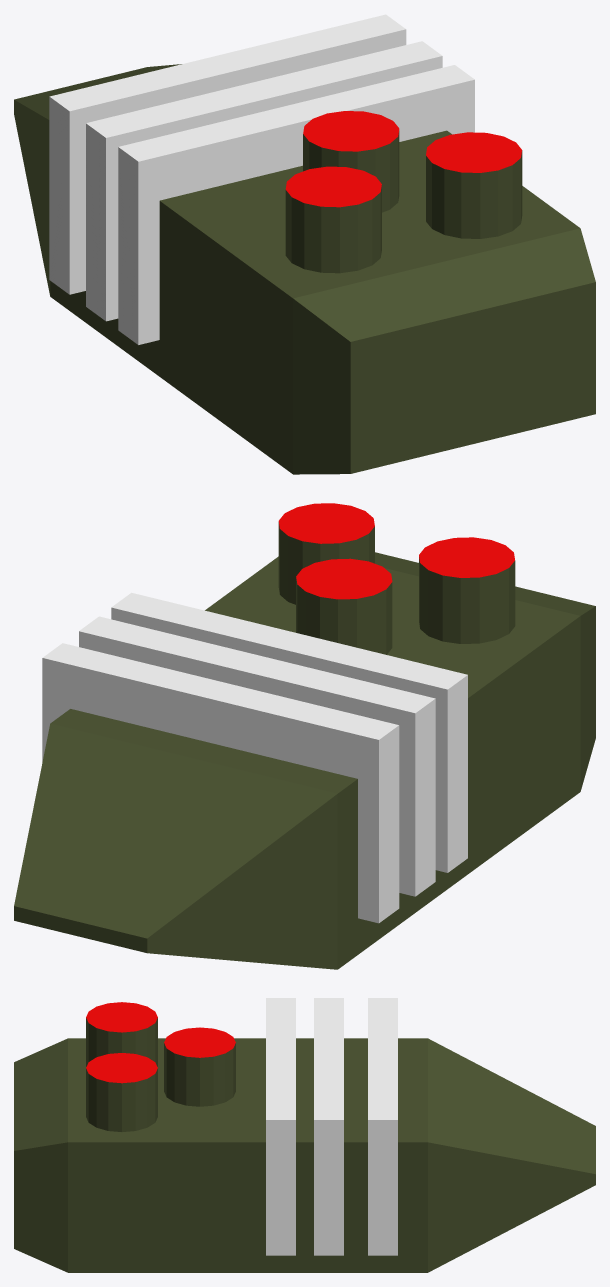
File: unit.fbx
The picture shows the model from 3 angles, top to bottom: view 1: azimuth 30°, elevation 25°; view 2: azimuth 150°, elevation 25°; view 3: azimuth 270°, elevation 25°; orthographic projection. The views are drawn at different scales.
Visible parts, largest first — view 1: Empty_Mesh; view 2: Empty_Mesh; view 3: Empty_Mesh.
Boxes of the visible parts, x1,y1,x2,y2 form: Empty_Mesh: (14, 14, 595, 474); Empty_Mesh: (14, 503, 595, 969); Empty_Mesh: (14, 998, 595, 1272).
Bounding box in the file's own units: 96 × 66 × 194.
